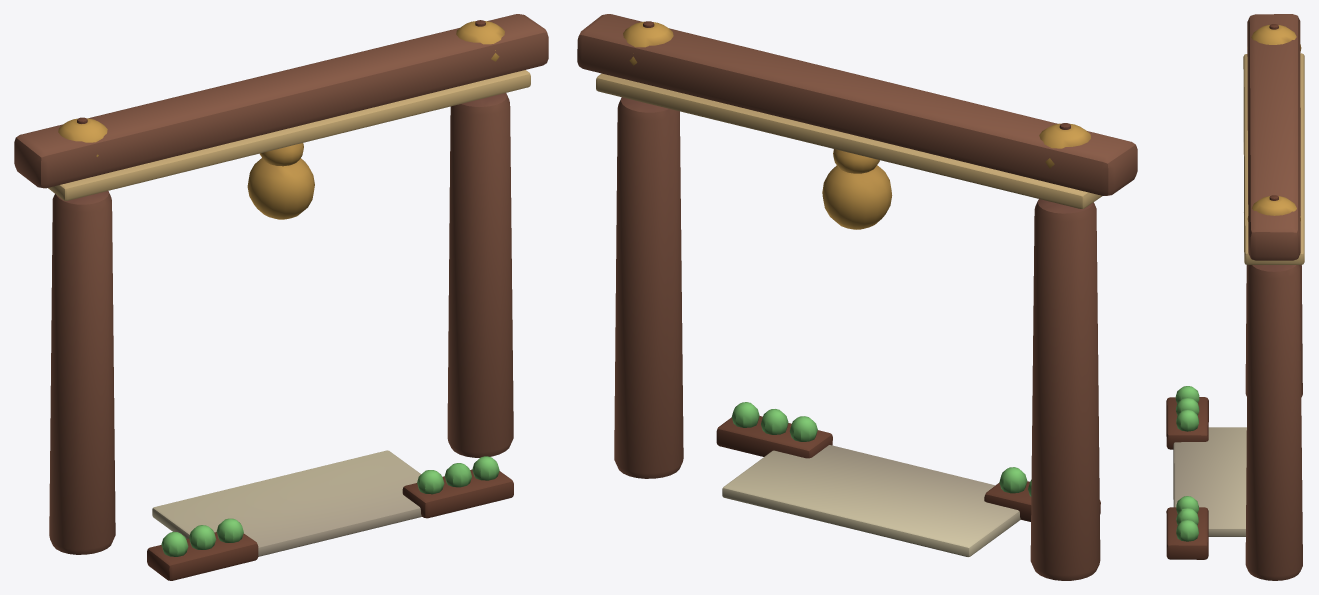
3 renders of one model, left to right at view 1: azimuth 30°, elevation 25°; view 2: azimuth 150°, elevation 25°; view 3: azimuth 270°, elevation 25°, orthographic. The views are drawn at different scales.
Parts seen in each view (by area): view 1: gate_d9b71995; view 2: gate_d9b71995; view 3: gate_d9b71995.
Part boxes in pixels (x1,y1,x2,y2): gate_d9b71995: (14, 14, 548, 580); gate_d9b71995: (577, 14, 1137, 580); gate_d9b71995: (1166, 14, 1304, 580).
Size of the model in its own units: 5.19 by 4.12 by 1.38.
